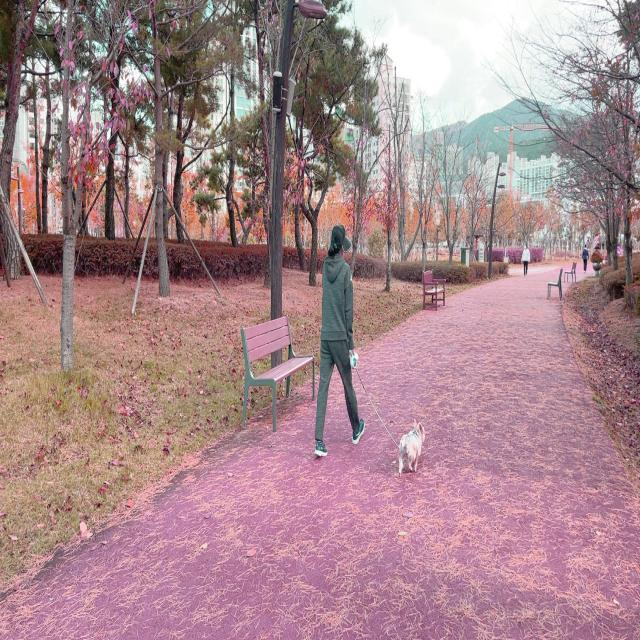Leashed_Dog: (342, 351, 426, 476)
